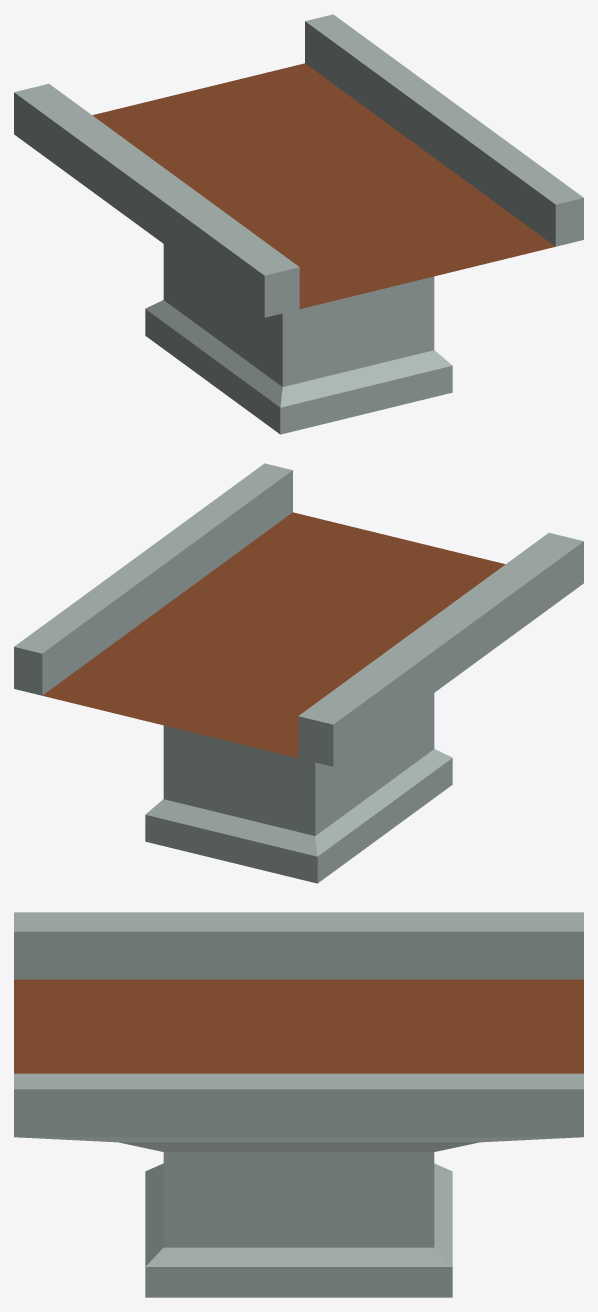
File: Bridge.fbx
3 views of the same model, one above another, from view 1: azimuth 30°, elevation 25°; view 2: azimuth 150°, elevation 25°; view 3: azimuth 270°, elevation 25° (orthographic). The views are drawn at different scales.
Visible parts, largest first — view 1: Cube; view 2: Cube; view 3: Cube.
Boxes of the visible parts, box(x1,y1,x2,y2) form: Cube: box(14, 14, 583, 434); Cube: box(14, 463, 583, 883); Cube: box(14, 912, 583, 1297).
Bounding box in the file's own units: 161 × 105 × 218.
